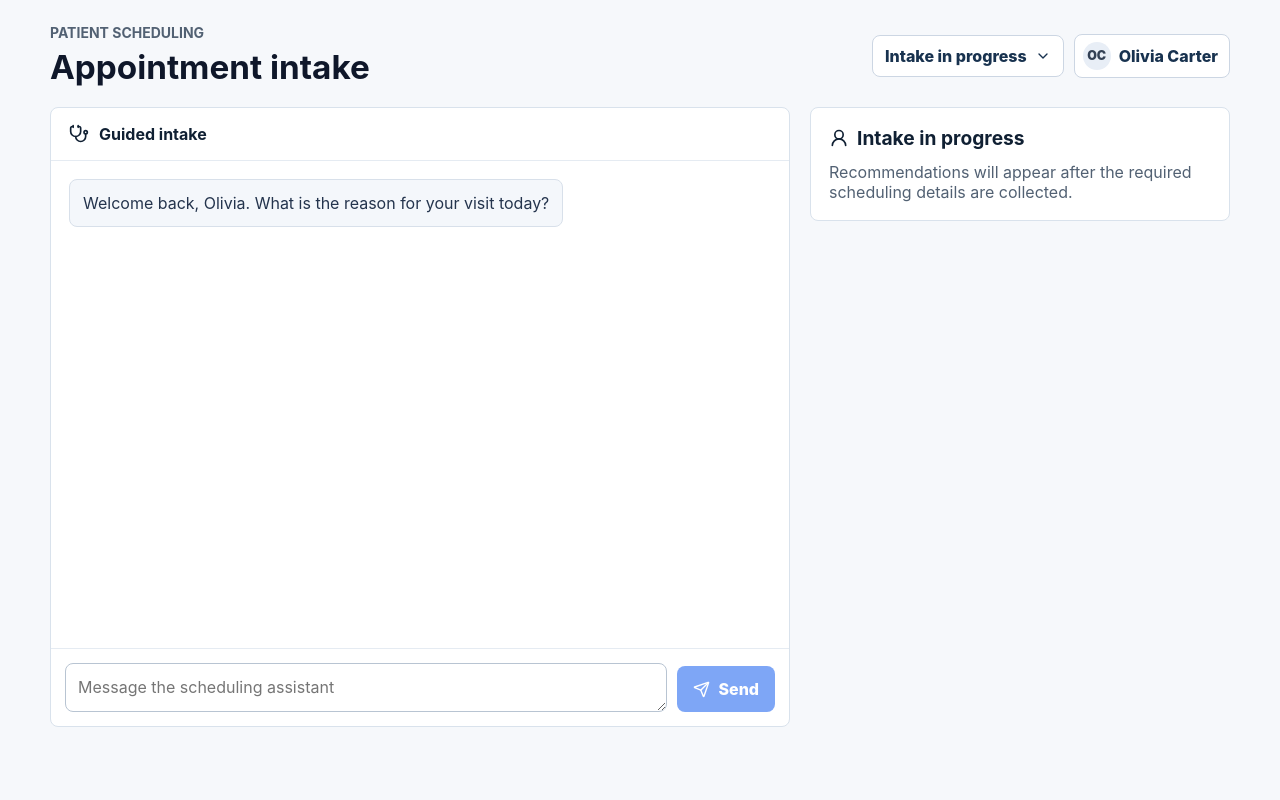
Test case: renders a patient-facing progress dropdown instead of raw chat state
Step 1. Click the button with aria-label "scheduling progress: intake in progress" → (968, 56), box top-left (872, 34), bottom-right (1064, 76)
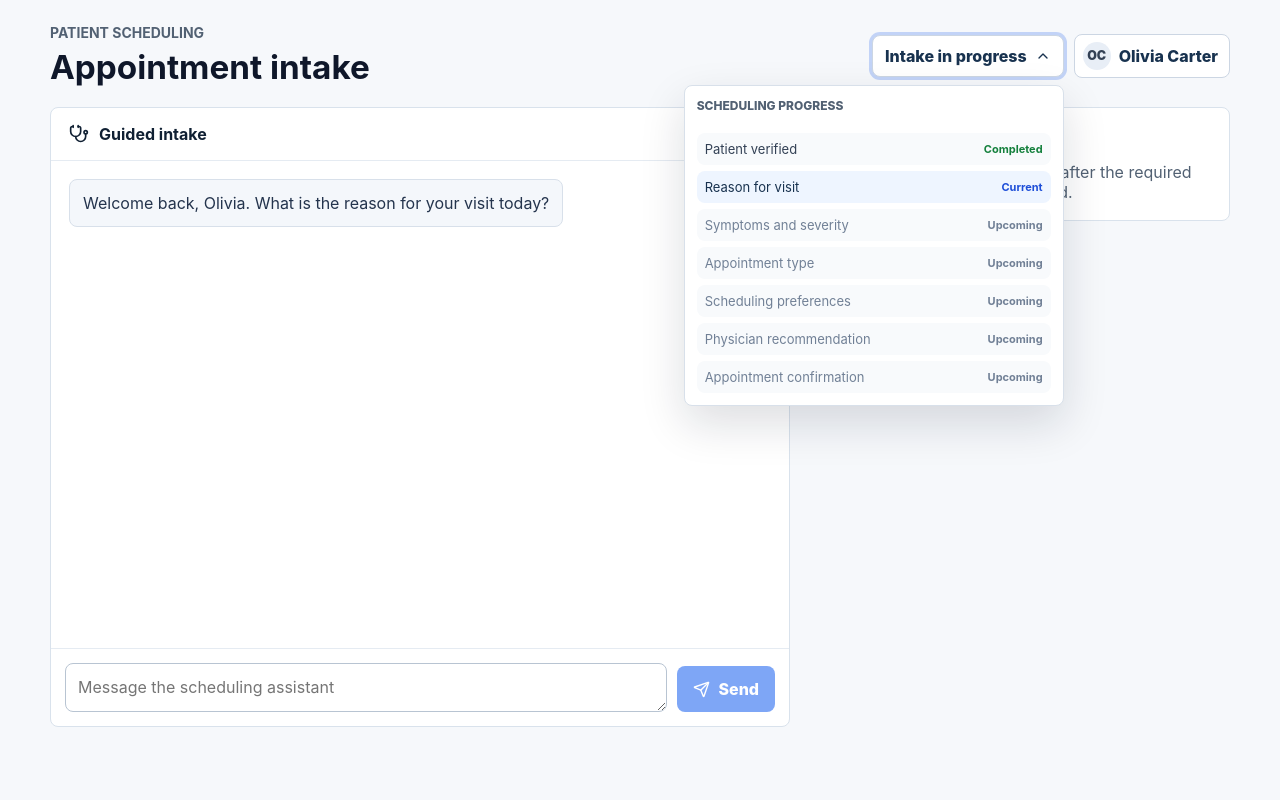
Expected: the button with aria-label "scheduling progress: intake in progress" is expanded, top-left (872, 34), bottom-right (1064, 76)
Expected: the dialog "Scheduling progress" is shown, top-left (684, 84), bottom-right (1064, 406)
Expected: the text "Patient verified" is shown, top-left (705, 140), bottom-right (797, 156)
